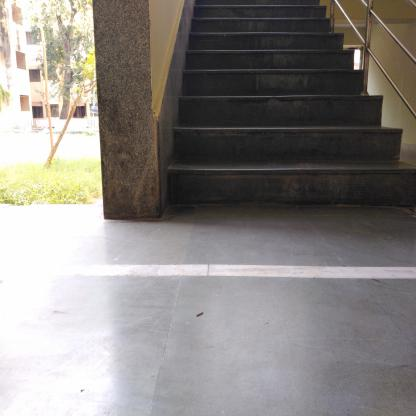stairs: (195, 4, 328, 214)
